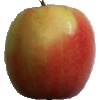apple: (2, 3, 98, 100)
